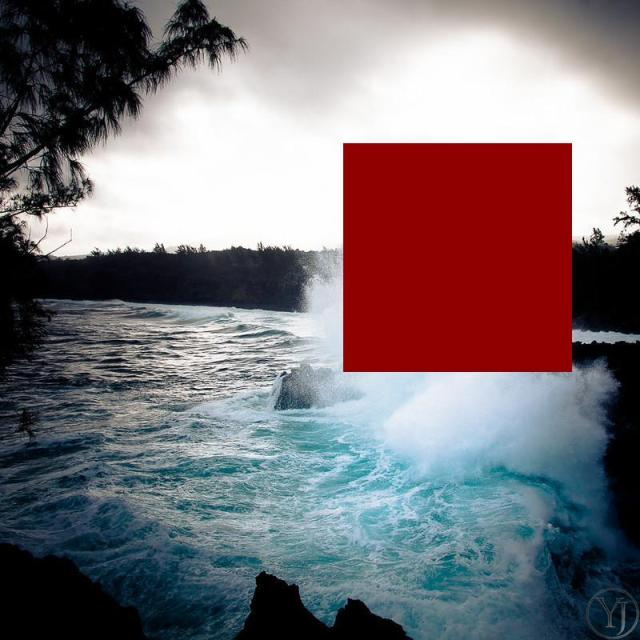RedSquare: (336, 133, 578, 380)
